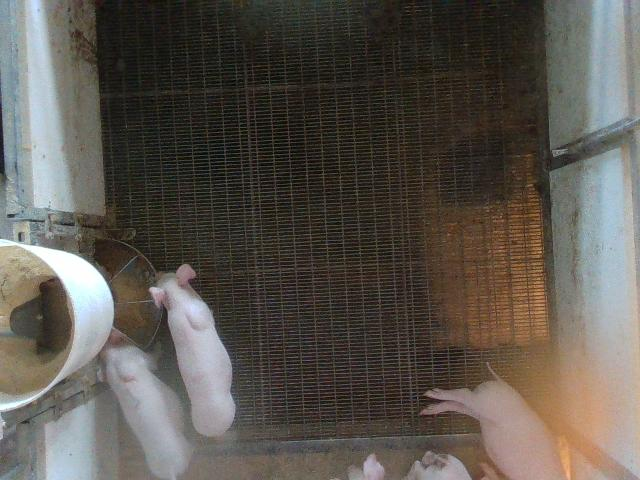pig-5: (100, 329, 191, 479)
